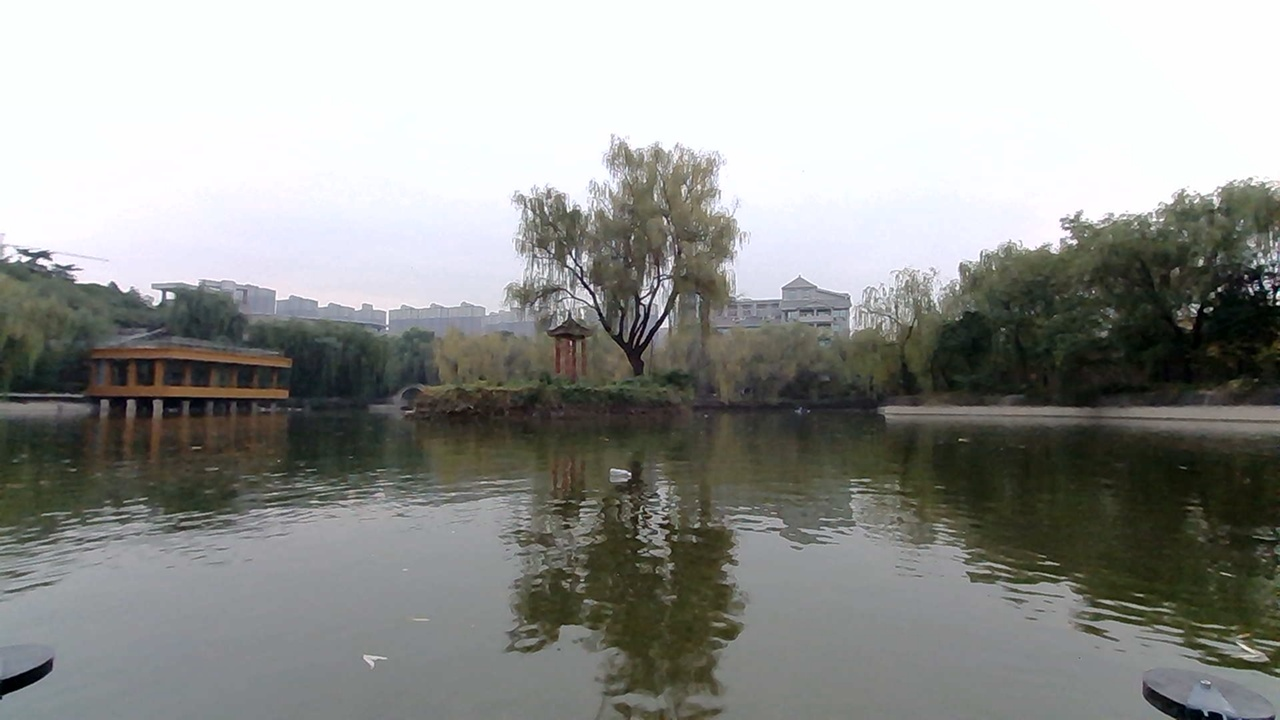bottle: (582, 457, 646, 490)
